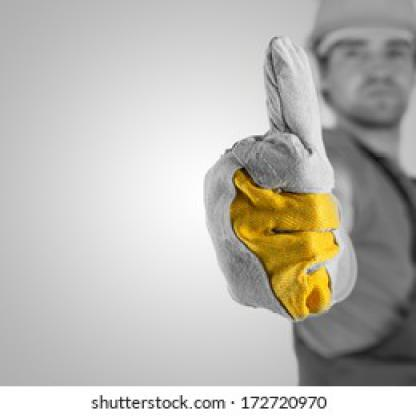with_gloves: (202, 38, 359, 320)
